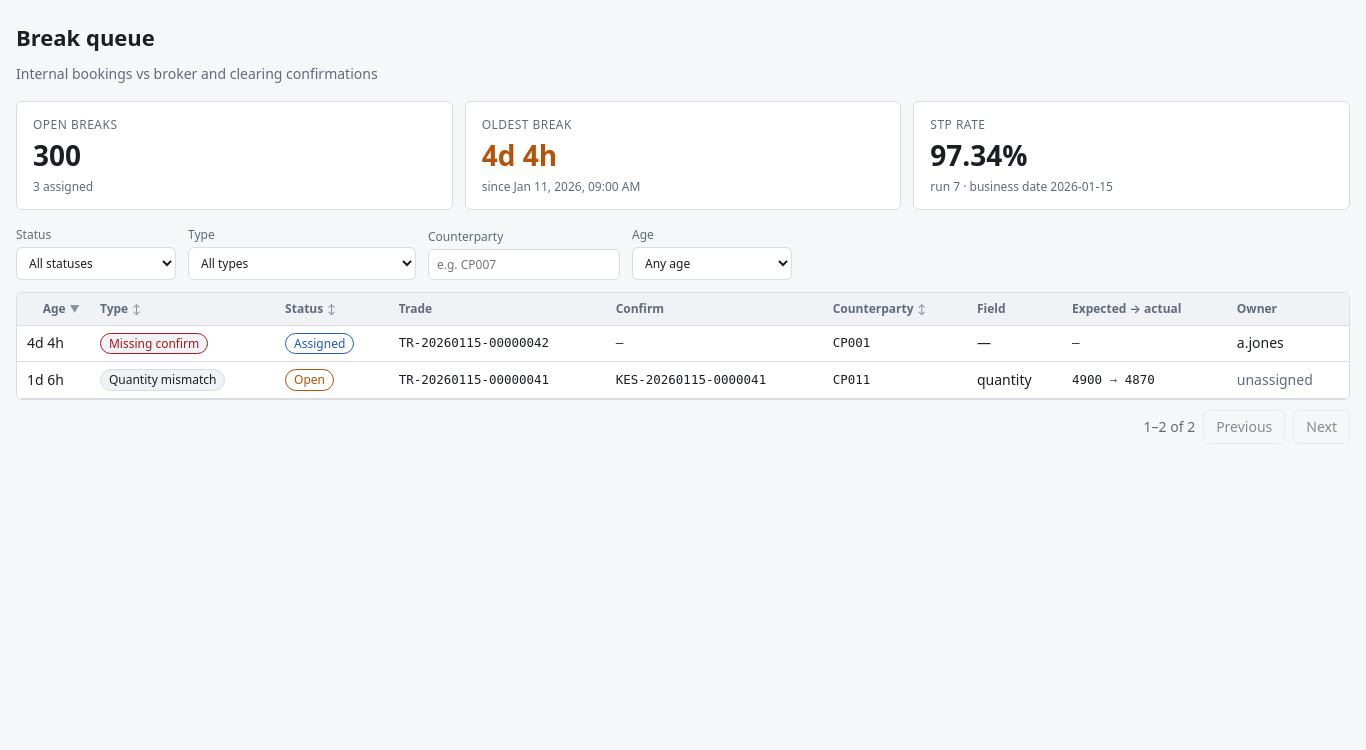
Test: break drawer › assigns an owner
Click the row named "Break 41" at (683, 380), box x1=17 y1=362 x2=1349 y2=398
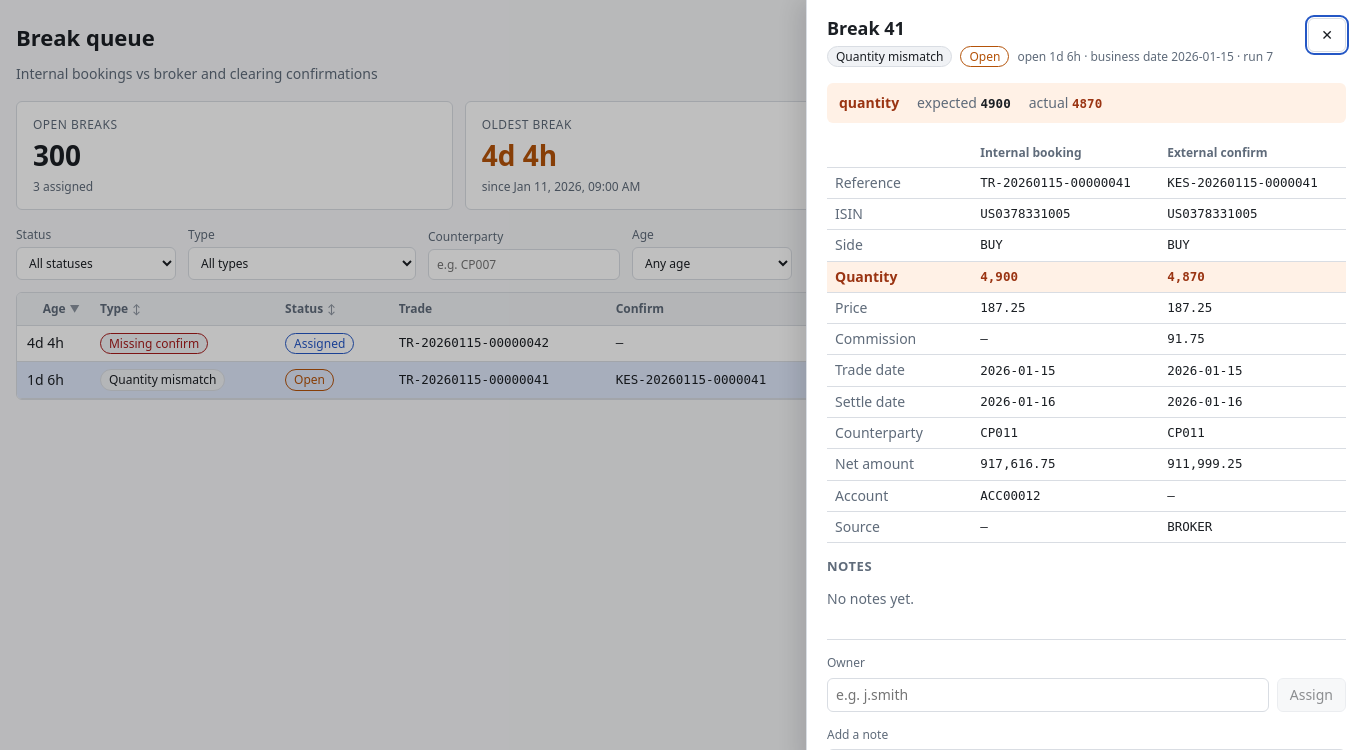
Type "j.smith" into the field labelled "Owner" at (1048, 695), box x1=827 y1=678 x2=1269 y2=712
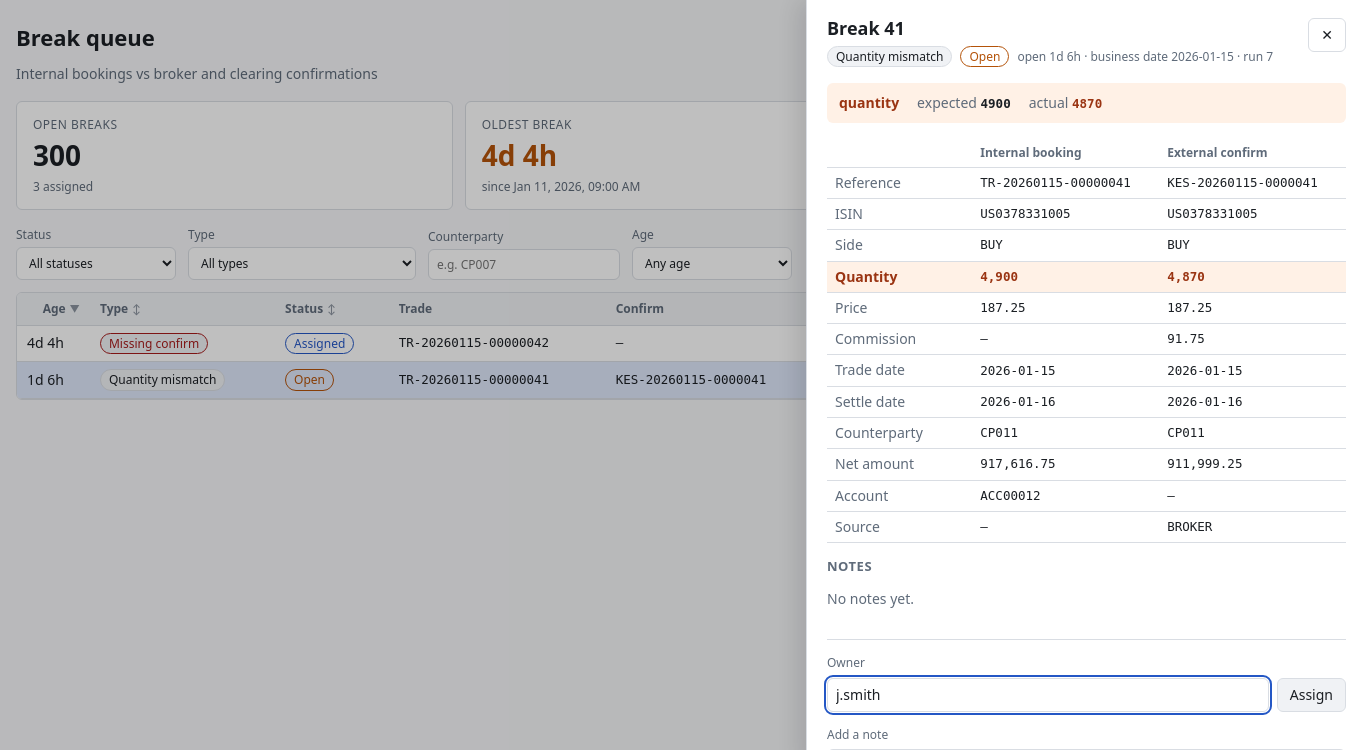
Click the button "Assign" at (1311, 695), box x1=1277 y1=678 x2=1346 y2=712
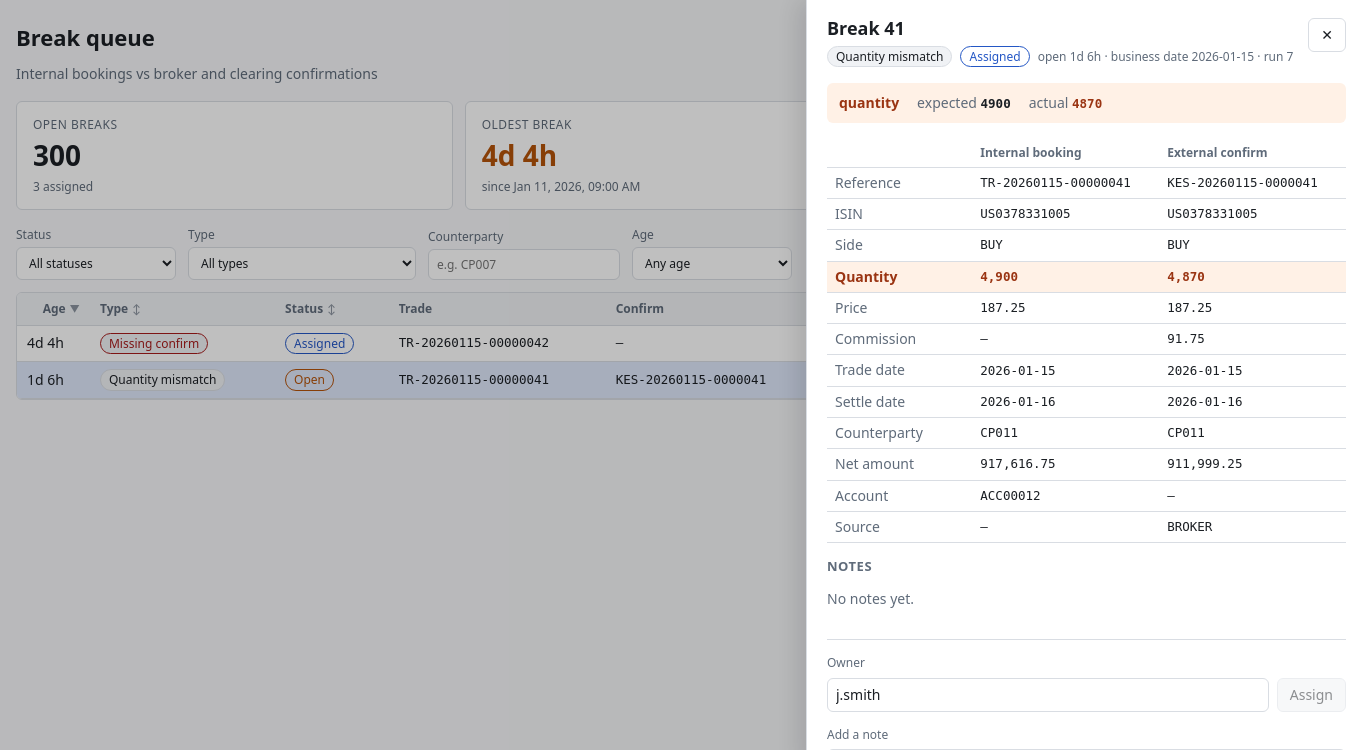
Expected: the text "Assigned" is shown, x1=960 y1=46 x2=1030 y2=67
